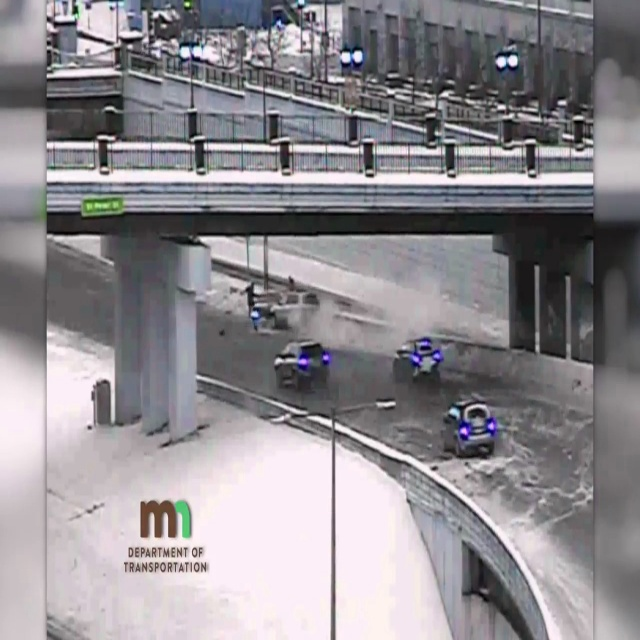acc: (246, 281, 322, 336)
